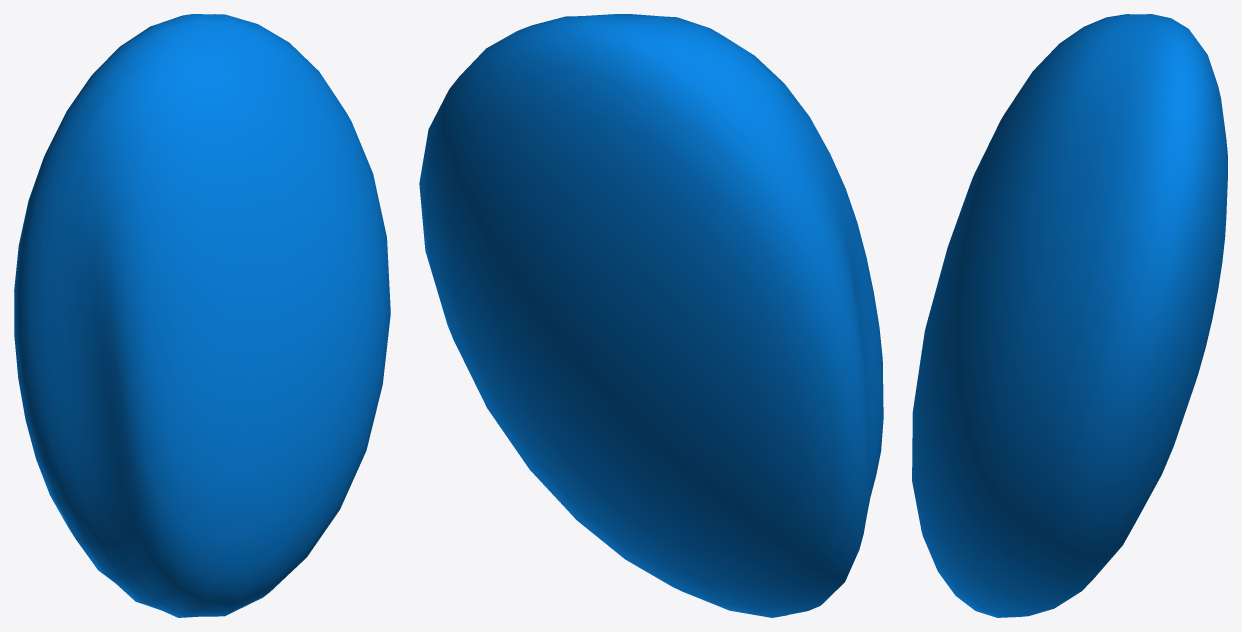
Rendered from blob-left-hand.glb.
The picture shows the model from 3 angles, left to right: view 1: azimuth 30°, elevation 25°; view 2: azimuth 150°, elevation 25°; view 3: azimuth 270°, elevation 25°; orthographic projection. The views are drawn at different scales.
Visible parts, largest first — view 1: Sphere.001; view 2: Sphere.001; view 3: Sphere.001.
Boxes of the visible parts, box(x1,y1,x2,y2) form: Sphere.001: box(14, 14, 390, 617); Sphere.001: box(419, 14, 883, 617); Sphere.001: box(912, 14, 1227, 617).
Bounding box in the file's own units: 0.6789 × 0.9583 × 0.4607.
